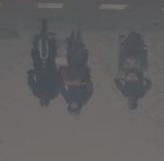person: (29, 33, 63, 107), (59, 44, 93, 113), (115, 45, 151, 110)
